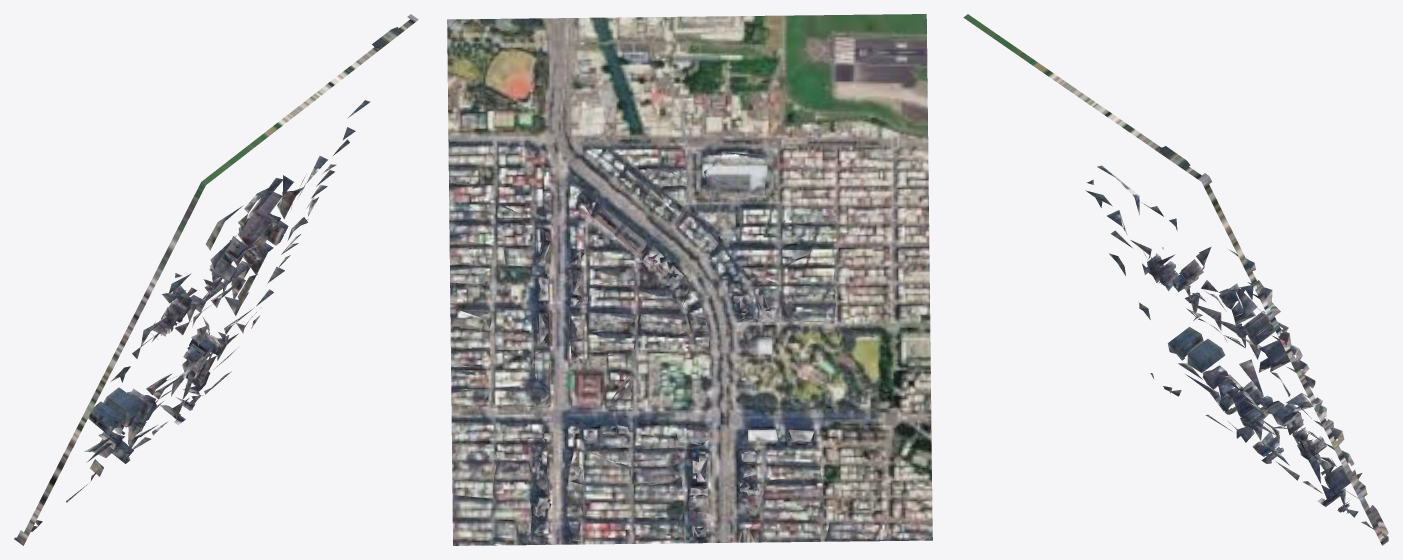
3 views of the same model, side by side, from view 1: azimuth 30°, elevation 25°; view 2: azimuth 150°, elevation 25°; view 3: azimuth 270°, elevation 25° (orthographic). The views are drawn at different scales.
Bounding box in the file's own units: 1229 × 1120 × 1035.
2 materials, 2 textured.
